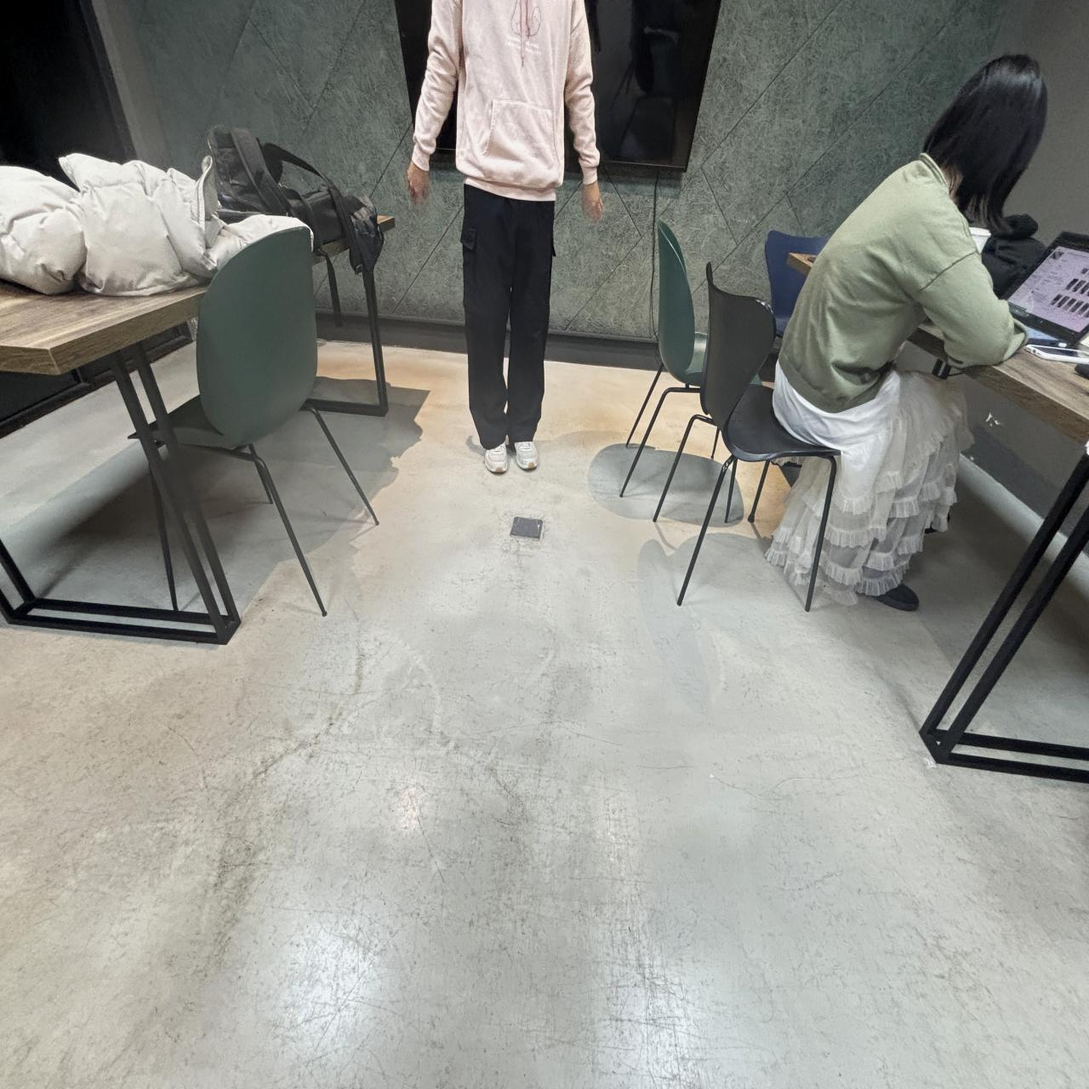person: (773, 52, 1048, 617), (408, 0, 602, 473)
